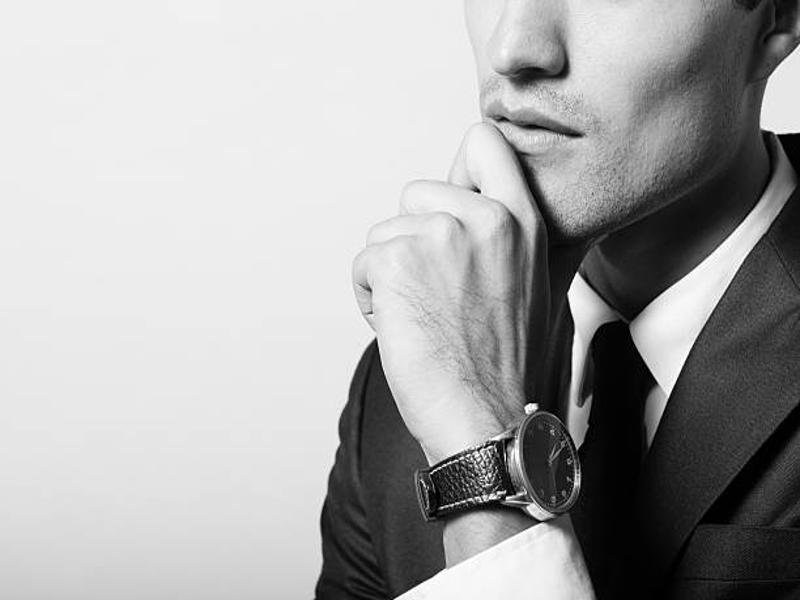watch: (410, 401, 582, 526)
